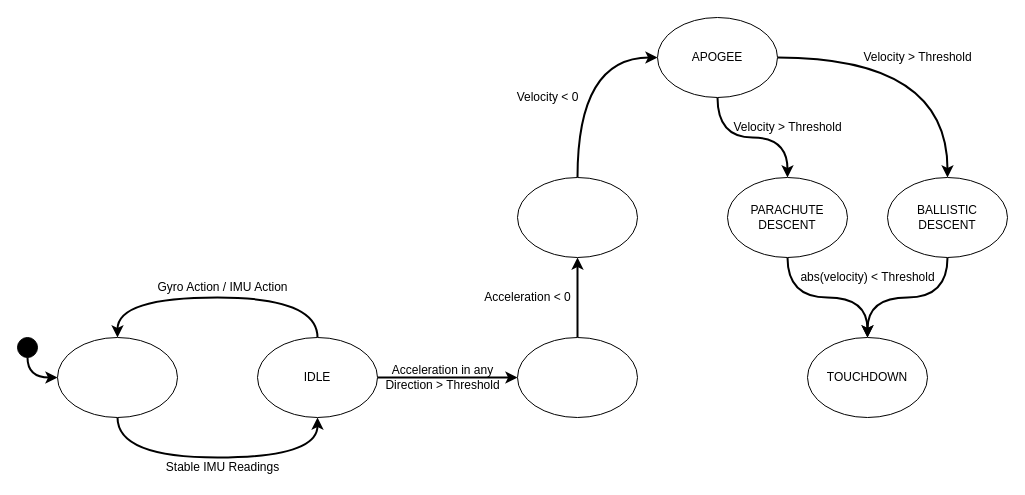
Image size: 1025x495. Some labels were removed from this diagram. The shapes that lost their labels are listed below. From the top down, each one's centre as x and y in pixels, then its label:
point (577, 217): COASTING
point (117, 377): MOVING
point (577, 377): THRUSTING
